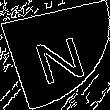N_N: (24, 26, 86, 84)
